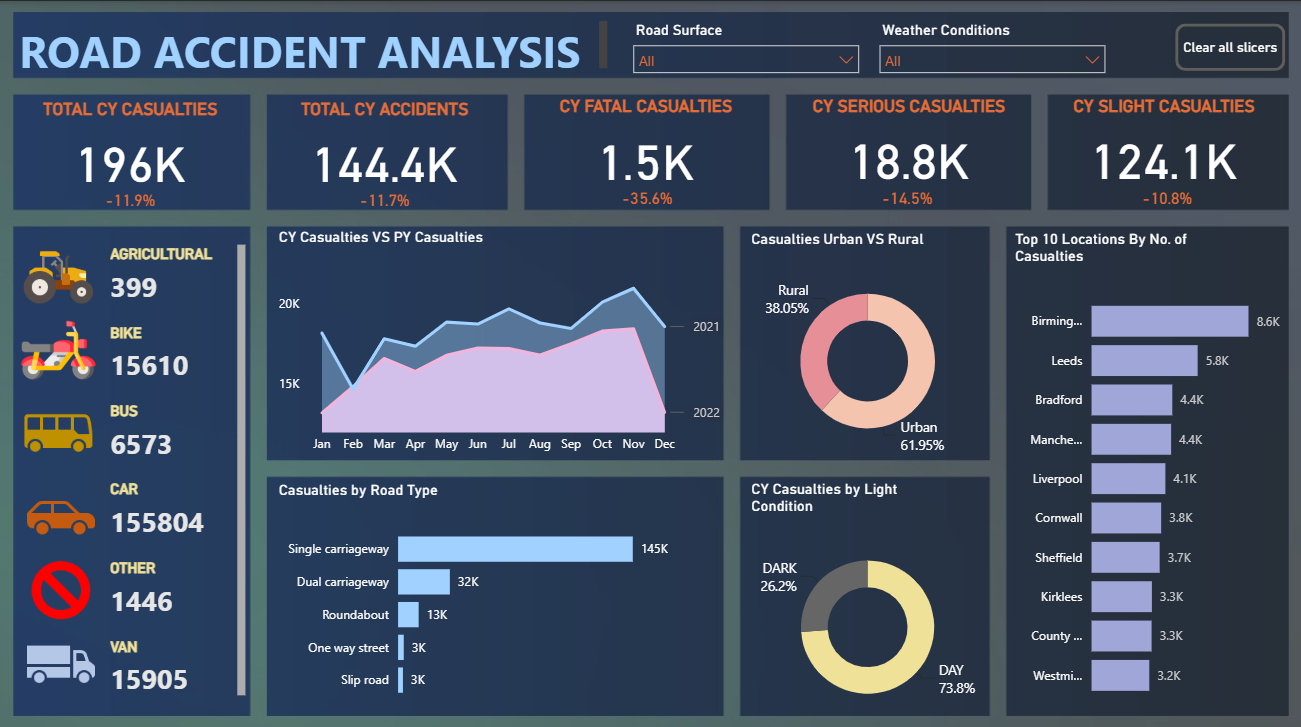

The dashboard page shown, as its layout file describes it:
{"tool":"powerbi","page":{"name":"ROAD ACCIDENT ANALYSIS","canvas":[1280,720],"ordinal":0},"visuals":[{"type":"card","title":"TOTAL CY CASUALTIES","fields":{"Values":["Data.CY Casualities"]},"box":[9.8,95.7,238,87.1],"z":0},{"type":"image","box":[14.7,234.4,87.2,72.6],"z":0,"group":"g1"},{"type":"image","box":[14.7,307,87.1,72.4],"z":1000,"group":"g1"},{"type":"card","title":"YOY GROWTH %","fields":{"Values":["Data.YOY GROWTH"]},"box":[9.8,182.8,238,27],"z":2000},{"type":"image","box":[14.7,388.3,87.1,72.4],"z":2000,"group":"g1"},{"type":"card","title":"CY SERIOUS CASUALTIES","fields":{"Values":["Data.CY Accident Count"]},"box":[770.6,93.3,245.4,87.1],"z":3000},{"type":"image","box":[17.2,470.9,87.1,72.4],"z":3000,"group":"g1"},{"type":"card","title":"TOTAL CY ACCIDENTS","fields":{"Values":["Data.CY Accident Count"]},"box":[262.6,95.7,231.9,87.1],"z":4000},{"type":"image","box":[17.2,542.2,87.1,72.4],"z":4000,"group":"g1"},{"type":"card","title":"YOY GROWTH %","fields":{"Values":["Data.YOY ACCIDENTS"]},"box":[775.5,180.4,231.9,27],"z":5000},{"type":"image","box":[17.2,614.8,87.1,72.4],"z":5000,"group":"g1"},{"type":"card","title":"CY FATAL CASUALTIES","fields":{"Values":["Data.CY Accident Count"]},"box":[515.3,93.3,239.3,87.1],"z":6000},{"type":"card","title":"CY SLIGHT CASUALTIES","fields":{"Values":["Data.CY Accident Count"]},"box":[1024.5,93.3,238,87.1],"z":7000},{"type":"multiRowCard","fields":{"Values":["Data.Vehicle_Type (groups)","Data.CY Casualities"]},"box":[104.3,234.4,142.3,463.8],"z":7000,"group":"g2"},{"type":"card","title":"YOY GROWTH %","fields":{"Values":["Data.YOY ACCIDENTS"]},"box":[262.6,182.8,231.9,27],"z":8000},{"type":"group","id":"g1","title":"Group 3","box":[14.7,234.4,89.6,452.8],"z":8000,"group":"g2"},{"type":"card","title":"YOY GROWTH %","fields":{"Values":["Data.YOY ACCIDENTS"]},"box":[520.2,180.4,231.9,27],"z":9000},{"type":"card","title":"YOY GROWTH %","fields":{"Values":["Data.YOY ACCIDENTS"]},"box":[1030.7,180.4,231.9,27],"z":10000},{"type":"textbox","box":[14.7,14.7,587.7,61.4],"z":11000},{"type":"areaChart","title":"CY Casualties VS PY Casualties","fields":{"Y":["Sum(Data.Number_of_Casualties)"],"Category":["Calendar.Month"],"Series":["Calendar.Year"]},"box":[269.9,223.3,446.8,229.2],"z":12000},{"type":"donutChart","title":"Casualties Urban VS Rural","fields":{"Category":["Data.Urban_or_Rural_Area"],"Y":["Data.CY Casualities"]},"box":[733.7,224.5,238.1,229.2],"z":13000},{"type":"donutChart","title":"CY Casualties by Light Condition","fields":{"Y":["Data.CY Casualities"],"Category":["Data.Light_Conditions (groups)"]},"box":[733.7,469.9,238.1,243.2],"z":14000},{"type":"barChart","title":"Casualties by Road Type","fields":{"Category":["Data.Road_Type"],"Y":["Data.CY Casualities"]},"box":[269.9,471.2,445.5,226.6],"z":15000},{"type":"slicer","fields":{"Values":["Data.Weather_Conditions (groups)"]},"box":[854,14.7,241.7,61.4],"z":16000},{"type":"slicer","fields":{"Values":["Data.Road_Surface_Conditions (groups)"]},"box":[612.3,14.7,241.7,61.4],"z":17000},{"type":"actionButton","box":[1154.6,22.1,108,46.6],"z":18000},{"type":"group","id":"g2","title":"Group 6","box":[14.7,234.4,231.9,463.8],"z":19000},{"type":"barChart","title":"Top 10 Locations By No. of Casualties","fields":{"Y":["Sum(Data.Number_of_Casualties)"],"Category":["Data.Local_Authority_(District)"]},"box":[992.6,224.5,269.9,473.6],"z":20000}]}

Visuals, with their boxes in screenshot pixels (x1, y1, x2, y2), scaled from the page's 1280x720 canvas onto the 1301x727 screenshot:
"TOTAL CY CASUALTIES" card: (10, 97, 252, 185)
image: (15, 237, 104, 310)
image: (15, 310, 103, 383)
"YOY GROWTH %" card: (10, 185, 252, 212)
image: (15, 392, 103, 465)
"CY SERIOUS CASUALTIES" card: (783, 94, 1033, 182)
image: (17, 475, 106, 549)
"TOTAL CY ACCIDENTS" card: (267, 97, 503, 185)
image: (17, 547, 106, 621)
"YOY GROWTH %" card: (788, 182, 1024, 209)
image: (17, 621, 106, 694)
"CY FATAL CASUALTIES" card: (524, 94, 767, 182)
"CY SLIGHT CASUALTIES" card: (1041, 94, 1283, 182)
multiRowCard - Data.Vehicle_Type (groups) x Data.CY Casualities: (106, 237, 251, 705)
"YOY GROWTH %" card: (267, 185, 503, 212)
"Group 3" group: (15, 237, 106, 694)
"YOY GROWTH %" card: (529, 182, 764, 209)
"YOY GROWTH %" card: (1048, 182, 1283, 209)
textbox: (15, 15, 612, 77)
"CY Casualties VS PY Casualties" areaChart: (274, 225, 728, 457)
"Casualties Urban VS Rural" donutChart: (746, 227, 988, 458)
"CY Casualties by Light Condition" donutChart: (746, 474, 988, 720)
"Casualties by Road Type" barChart: (274, 476, 727, 705)
slicer - Data.Weather_Conditions (groups): (868, 15, 1114, 77)
slicer - Data.Road_Surface_Conditions (groups): (622, 15, 868, 77)
actionButton: (1174, 22, 1283, 69)
"Group 6" group: (15, 237, 251, 705)
"Top 10 Locations By No. of Casualties" barChart: (1009, 227, 1283, 705)
